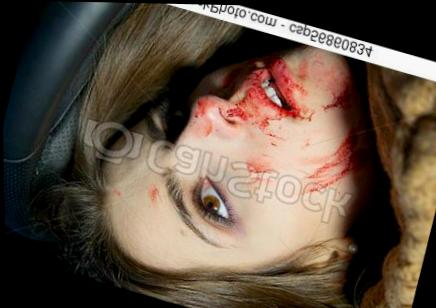Fire: (303, 133, 365, 198), (270, 57, 302, 96), (187, 95, 208, 133), (231, 84, 263, 108), (325, 82, 350, 110), (252, 115, 275, 136), (281, 106, 314, 120), (227, 106, 252, 120), (245, 160, 271, 173), (149, 185, 162, 209)
